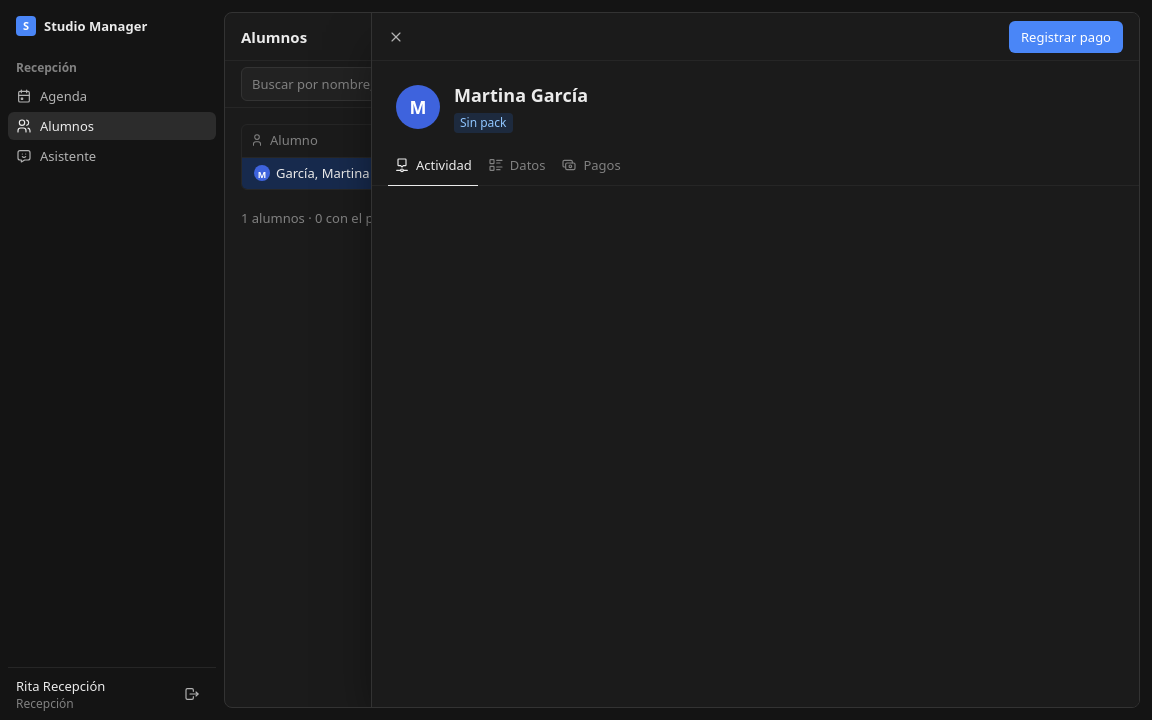
Scenario: /alumnos/:id › registrar un pago manda pack y medio, y actualiza la ficha y la lista
Expected: the text "Sin pack" is shown, [454,113,512,133]
Click the button "Registrar pago".
click(1066, 36)  # box [1009,20,1123,52]
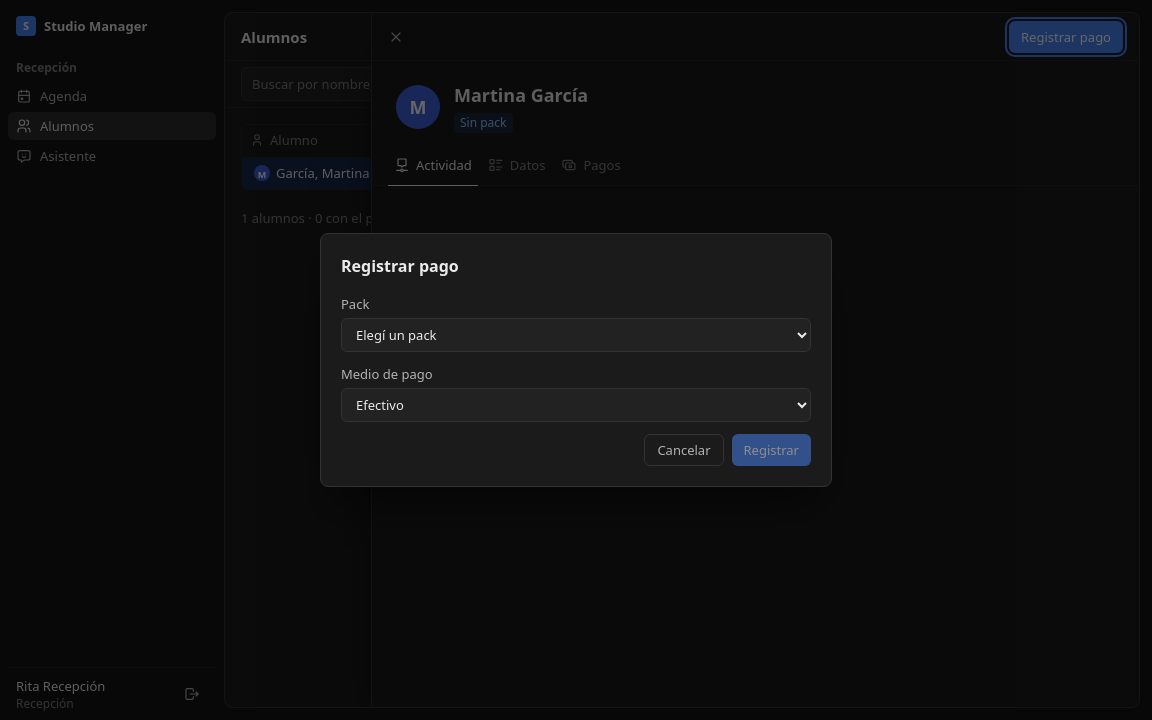
Select "Pack x8 · $9.600 · 8 clases" in the dropdown labelled "Pack" at (576, 335), box [341,318,811,352]
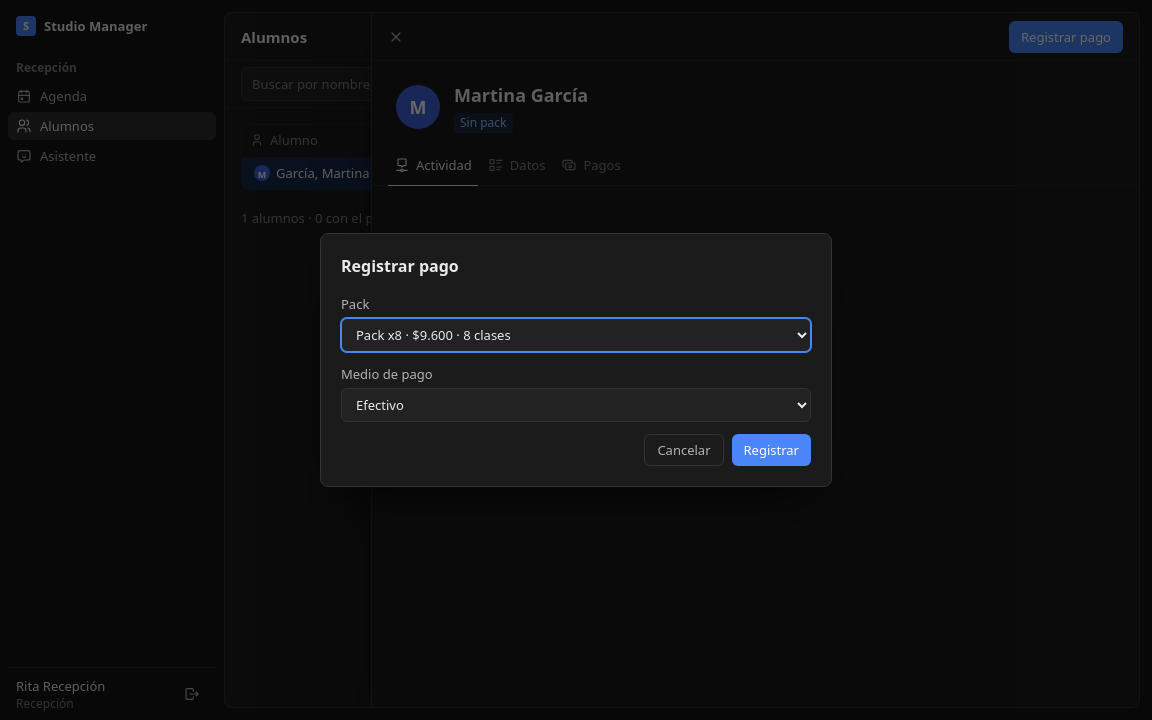
Select "Transferencia" in the dropdown labelled "Medio de pago" at (576, 405), box [341,388,811,422]
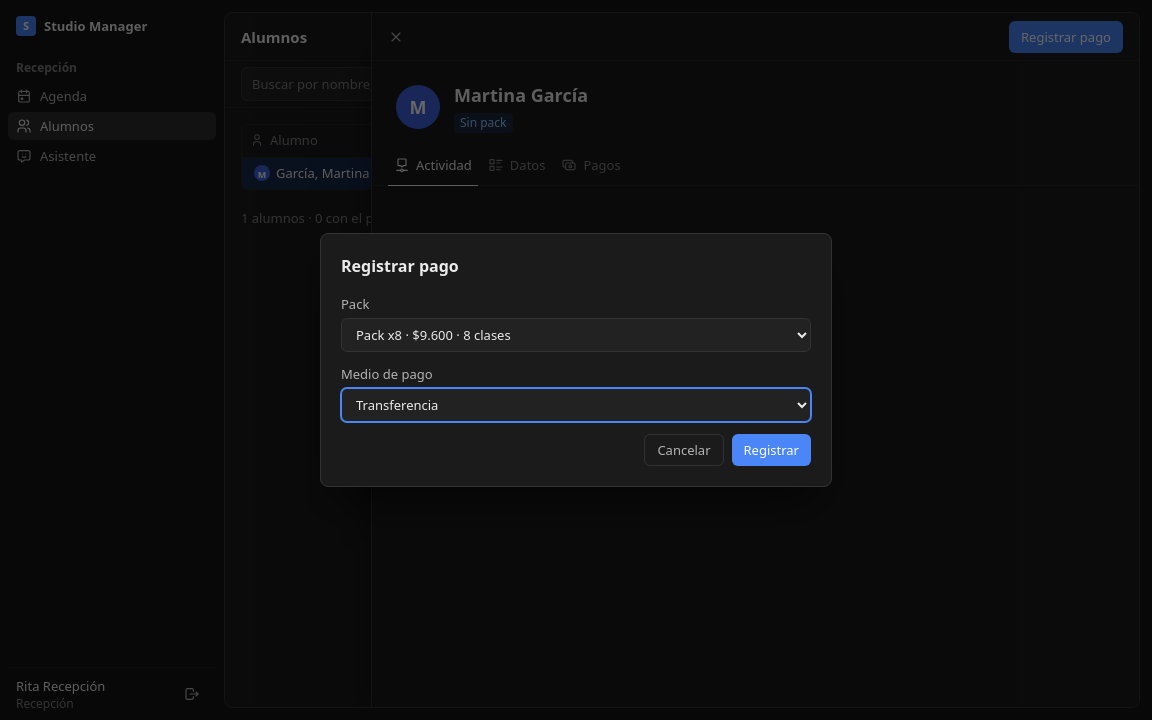
Click the button "Registrar".
click(771, 450)  # box [732,434,811,466]
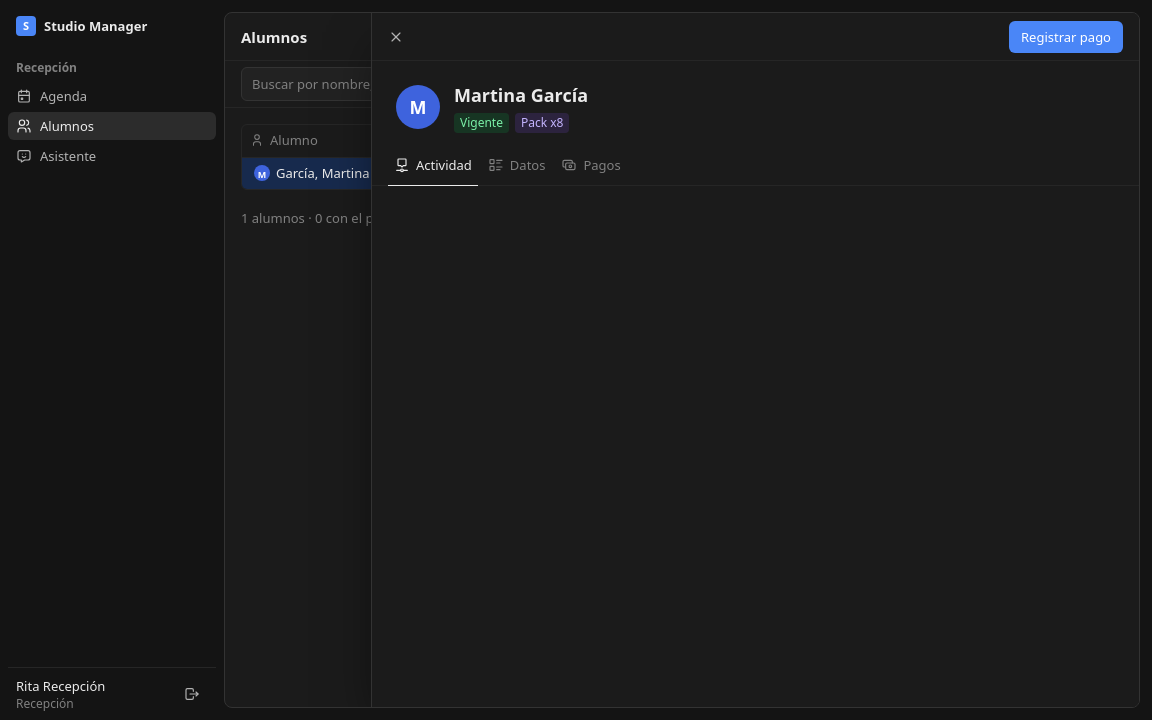
Now the text "Vigente" is shown, box [454,113,509,133]
Now the text "Pack x8" is shown, box [515,113,570,133]
Now the text "Vigente" in the row of "10 abr" is shown, box [413,165,456,182]
Click the tab "Pagos".
click(591, 166)  # box [555,145,627,186]
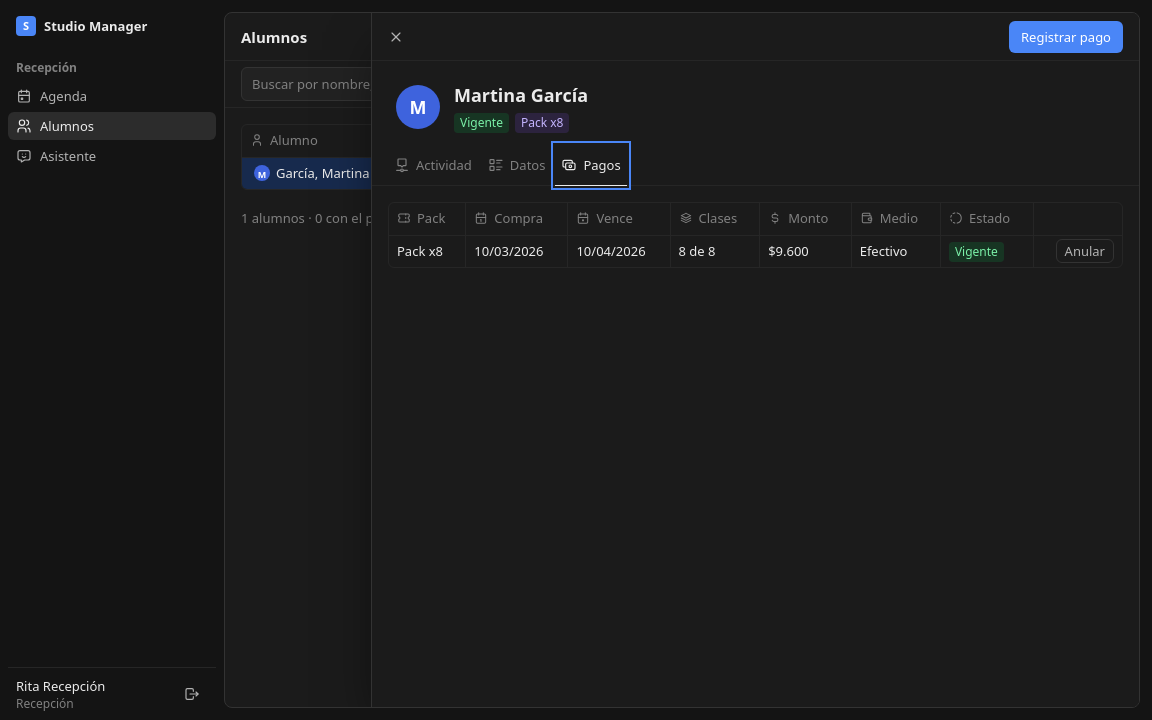
Now the row "Pack x8" is shown, box [389,235,1122,267]
